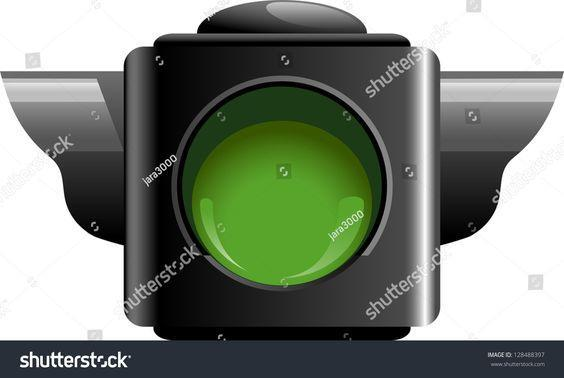green: (116, 45, 445, 318)
